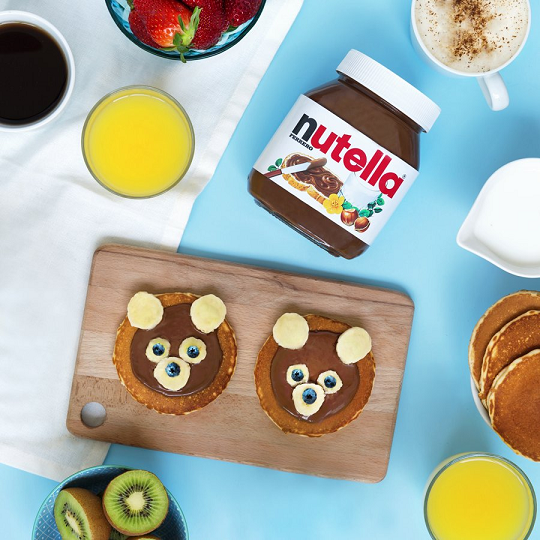nutella: (246, 47, 441, 261)
